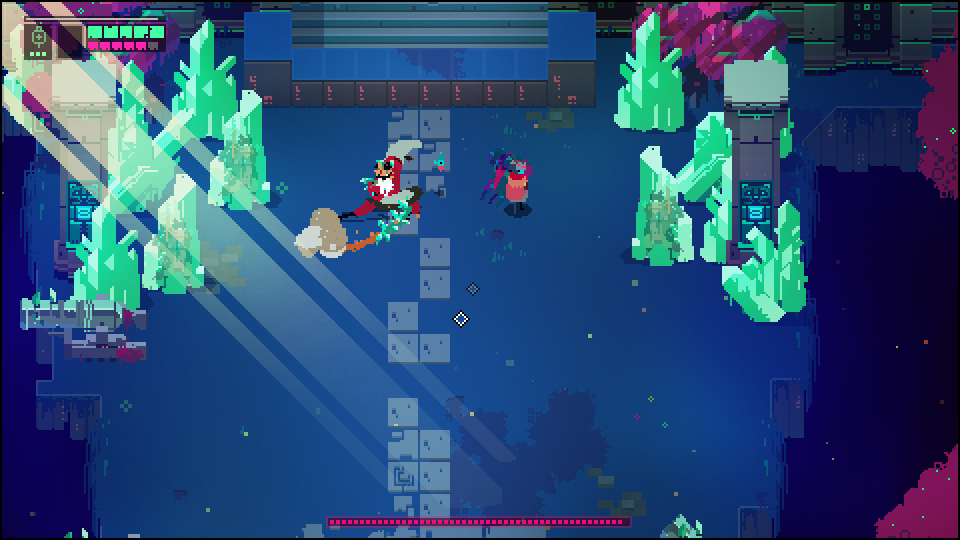hanged_man: (329, 134, 430, 255)
player: (497, 155, 529, 215)
